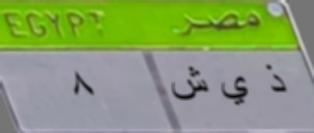8: (65, 70, 103, 97)
sheen: (170, 62, 212, 106)
yaa: (220, 74, 253, 110)
zaal: (262, 57, 292, 99)
